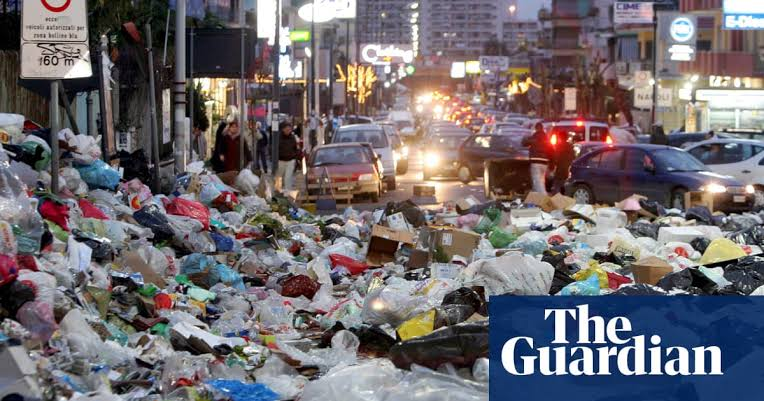garbage: (13, 204, 488, 401), (2, 120, 132, 401), (471, 211, 764, 294)
